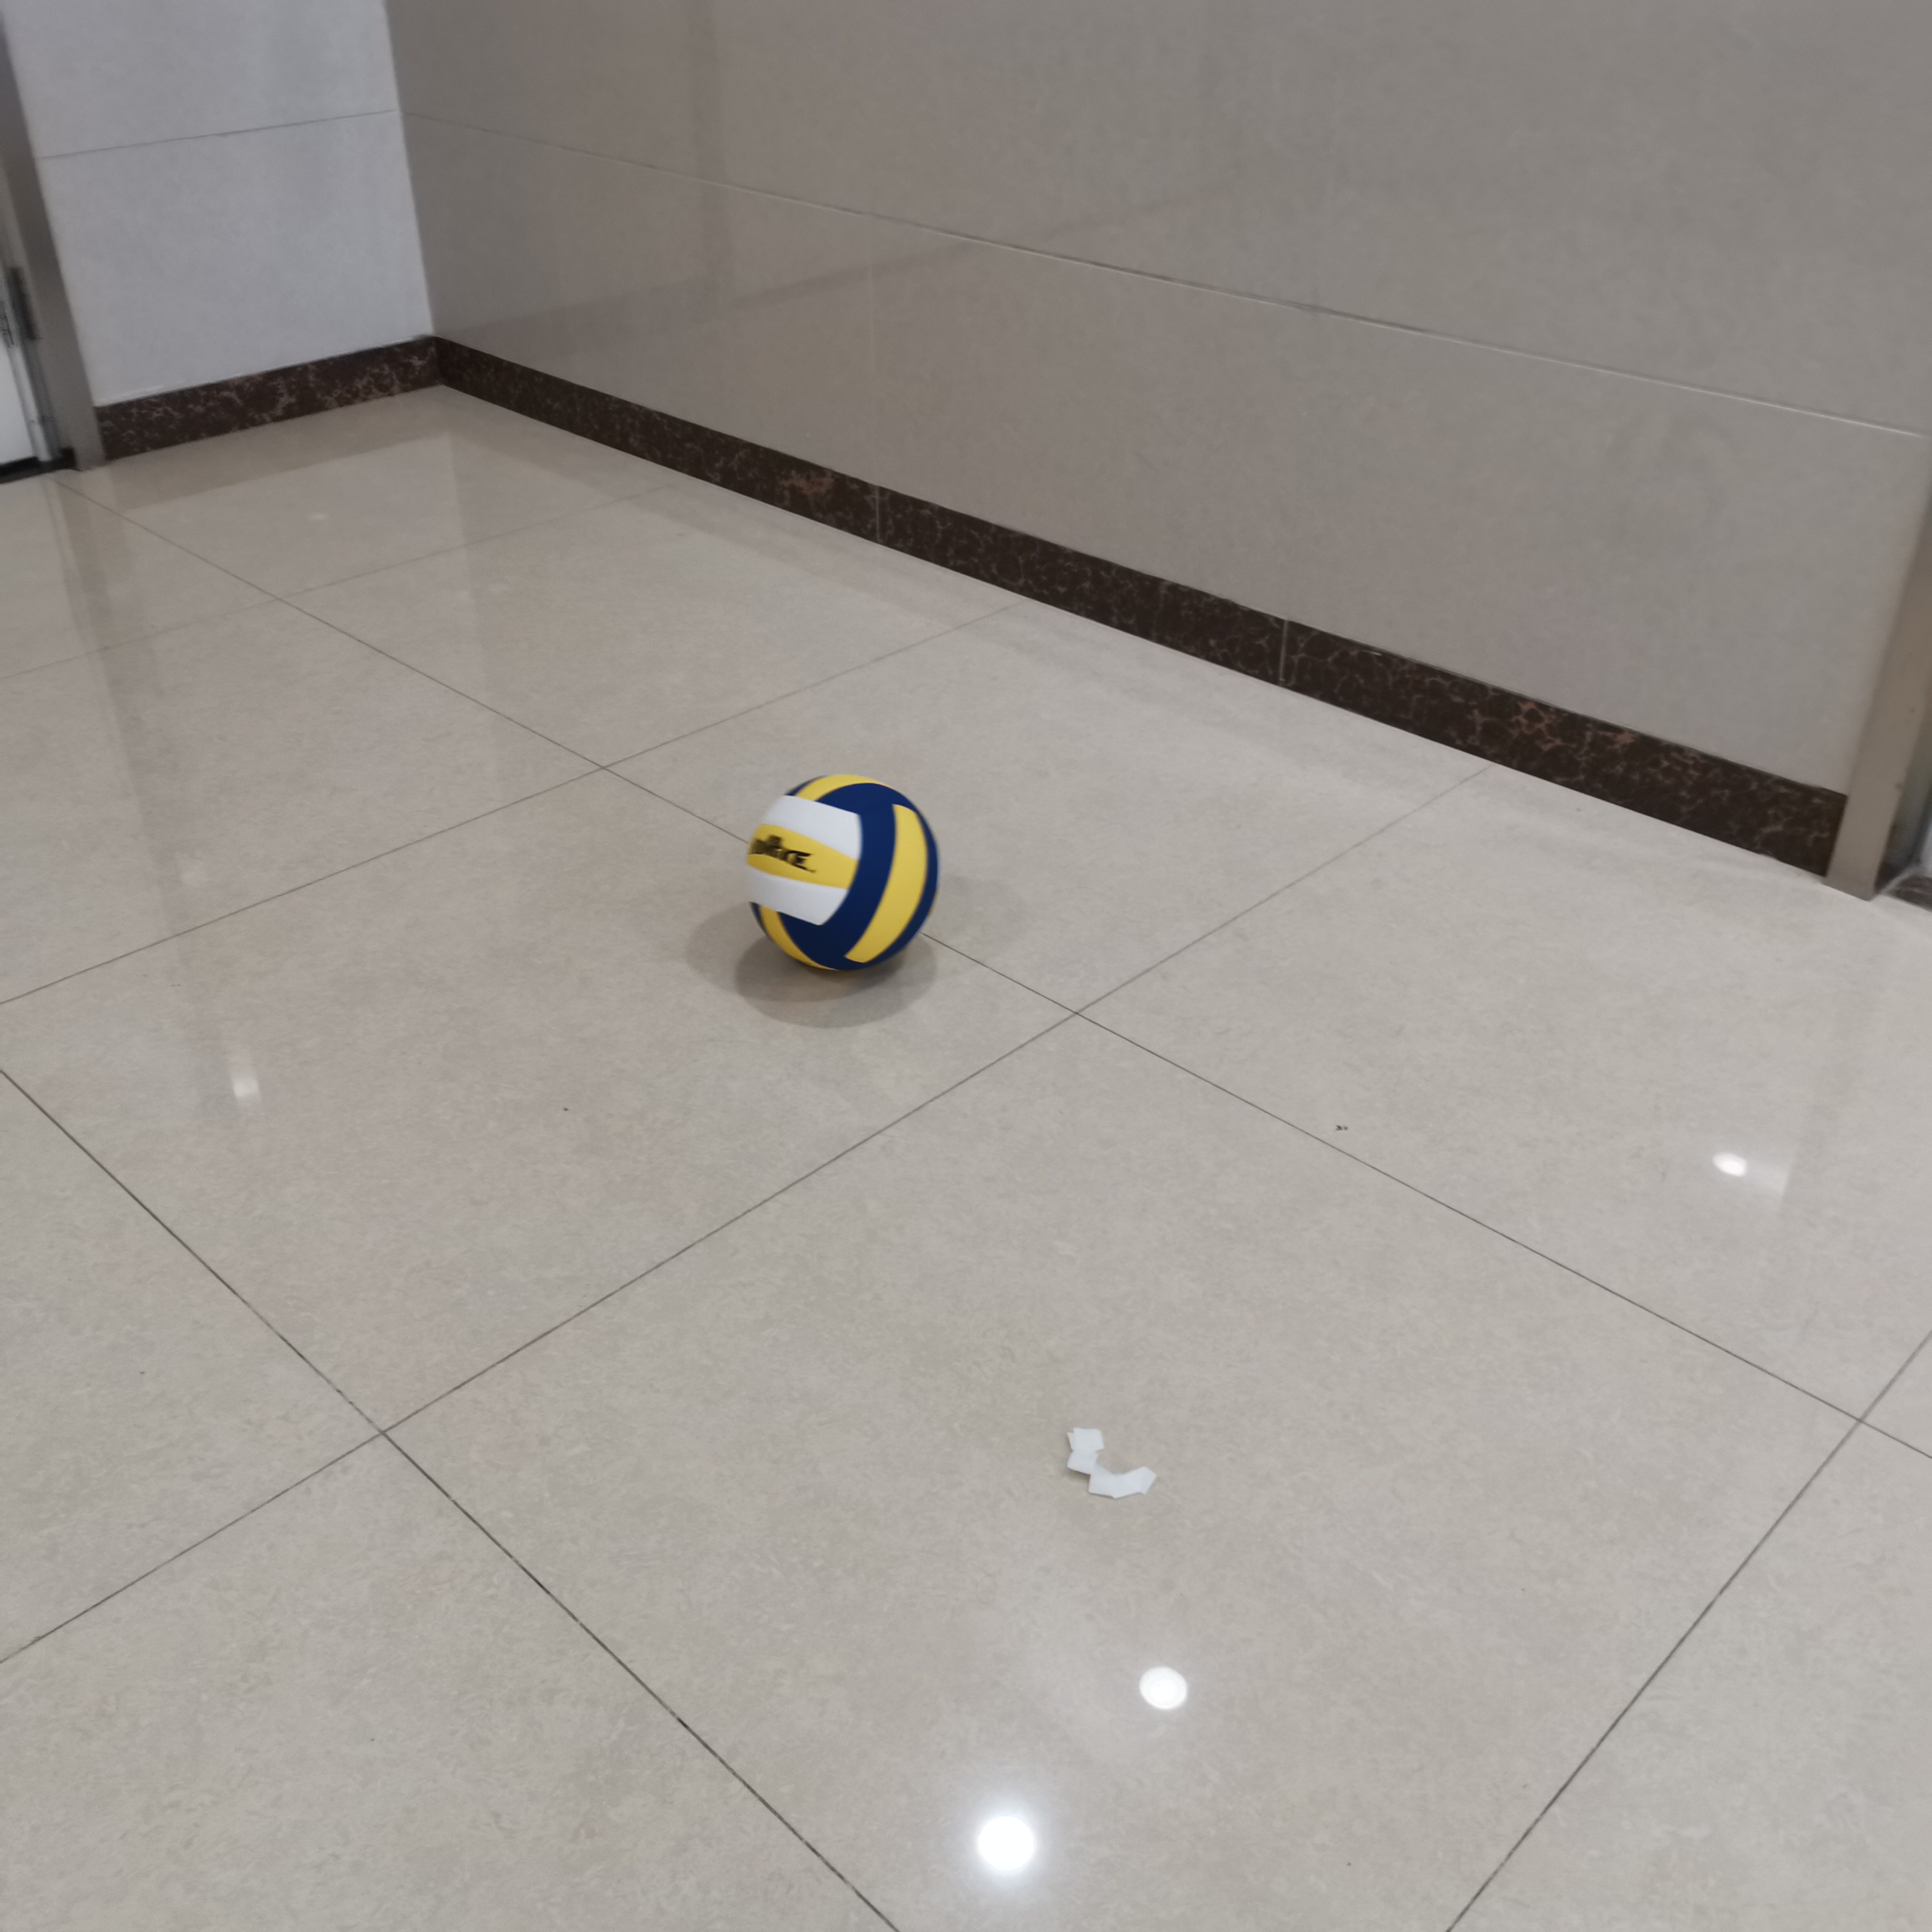volleyball: (743, 770, 941, 975)
